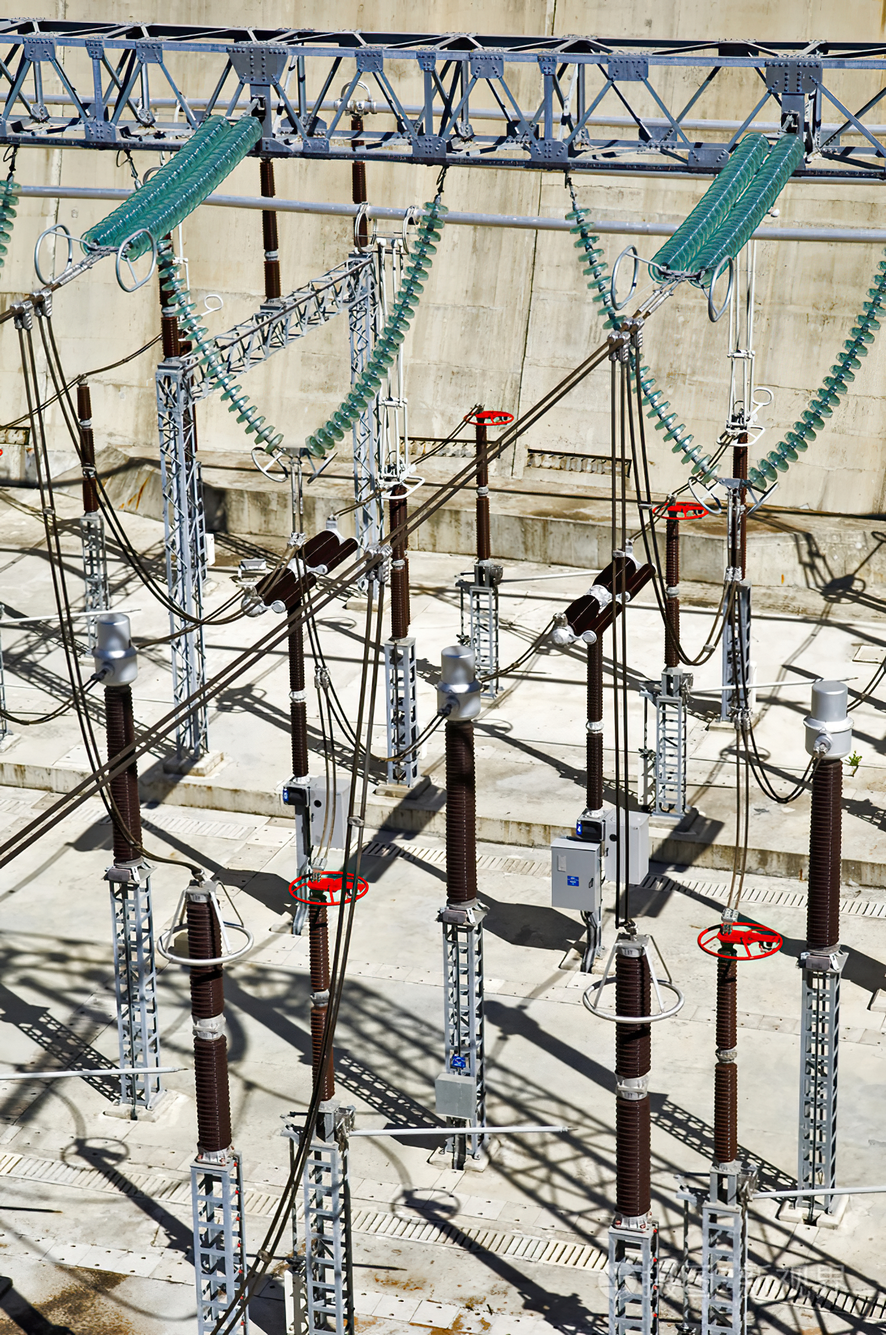insulator: (308, 199, 444, 459), (743, 263, 886, 490), (156, 241, 284, 462), (85, 111, 257, 259), (650, 128, 808, 282), (615, 353, 720, 480), (569, 211, 618, 331), (1, 177, 25, 272)
